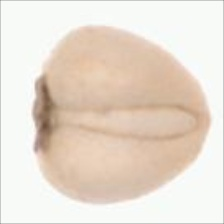L5: (54, 103, 203, 141), (29, 71, 54, 158), (198, 81, 215, 157)
L6: (29, 23, 213, 205)
